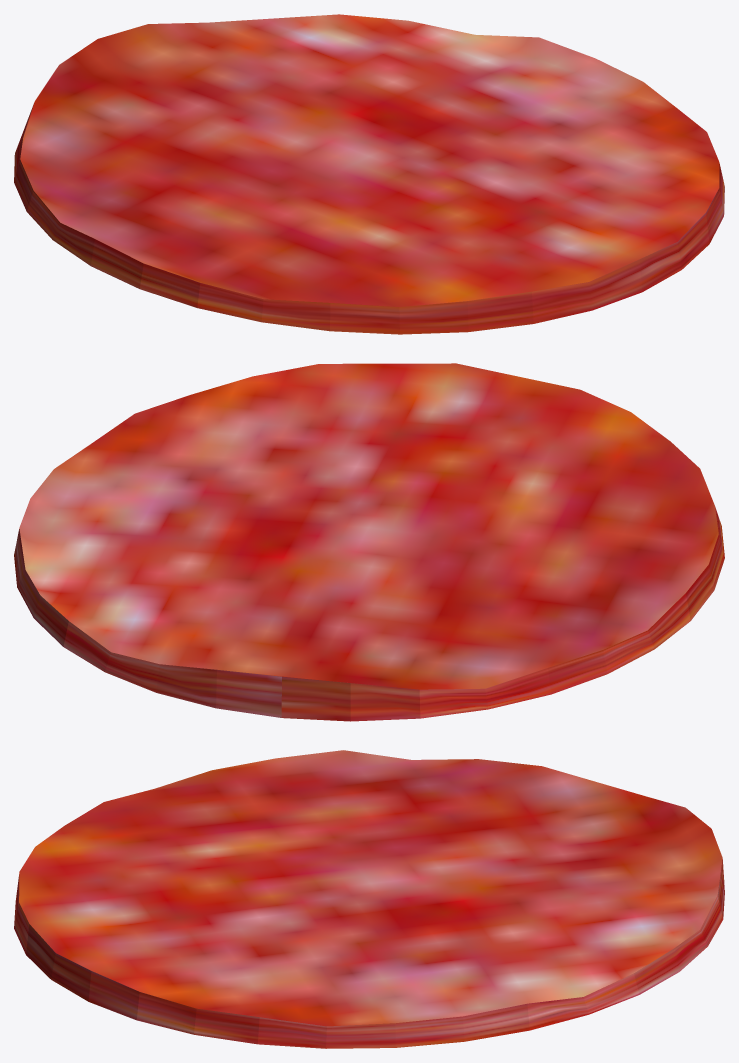
The model's file is pepperoni.glb.
3 views of the same model, one above another, from view 1: azimuth 30°, elevation 25°; view 2: azimuth 150°, elevation 25°; view 3: azimuth 270°, elevation 25° (orthographic). The views are drawn at different scales.
Parts seen in each view (by area): view 1: Cylinder.003; view 2: Cylinder.003; view 3: Cylinder.003.
Boxes of the visible parts, box(x1,y1,x2,y2) form: Cylinder.003: box(14, 14, 724, 334); Cylinder.003: box(14, 363, 724, 721); Cylinder.003: box(14, 750, 724, 1048).
Size of the model in its own units: 2.02 by 0.1277 by 2.2.
Materials: 1 (1 with a texture image).
